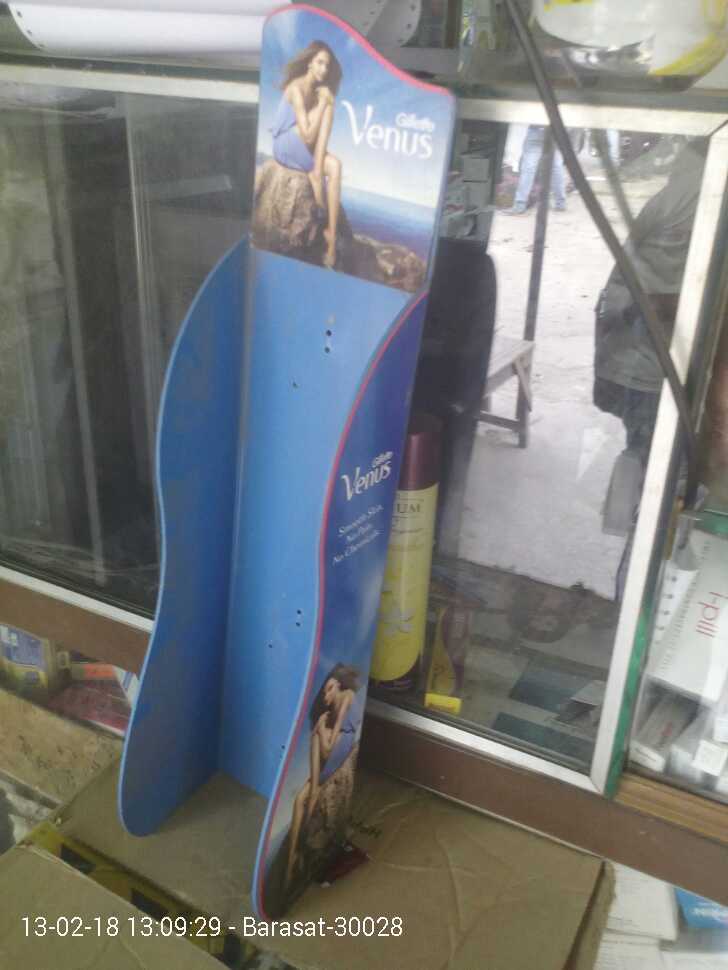reject: (283, 275, 515, 643)
